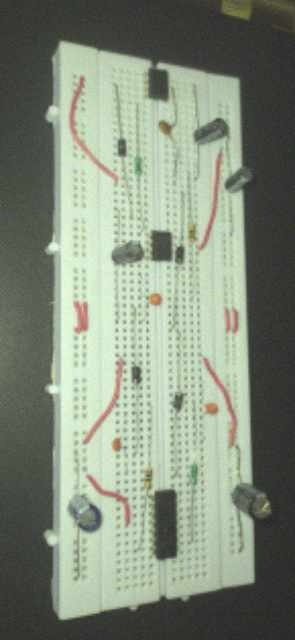capacitor: (231, 482, 274, 521), (68, 495, 100, 529), (194, 118, 227, 145), (225, 167, 254, 194), (112, 240, 143, 264), (159, 120, 174, 139), (146, 293, 162, 306), (113, 438, 125, 451)
resistor: (188, 221, 196, 243), (145, 468, 153, 490), (190, 463, 198, 485), (135, 155, 142, 177)
